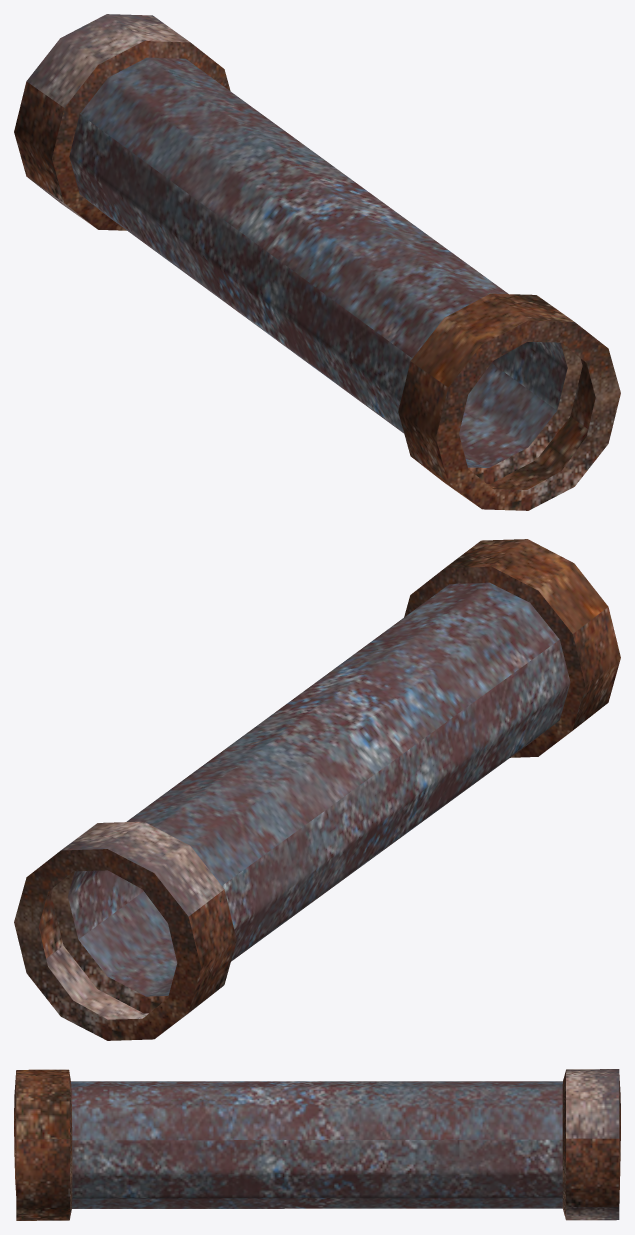
Rendered from TPE 2_FBX.fbx.
3 renders of one model, top to bottom at view 1: azimuth 30°, elevation 25°; view 2: azimuth 150°, elevation 25°; view 3: azimuth 270°, elevation 25°, orthographic. The views are drawn at different scales.
Parts seen in each view (by area): view 1: Tubería plataforma estática larga 2.001; view 2: Tubería plataforma estática larga 2.001; view 3: Tubería plataforma estática larga 2.001.
Part boxes in pixels (bbox=[...]): Tubería plataforma estática larga 2.001: bbox=[14, 14, 620, 510]; Tubería plataforma estática larga 2.001: bbox=[14, 539, 620, 1040]; Tubería plataforma estática larga 2.001: bbox=[14, 1069, 620, 1220].
Bounding box in the file's own units: 183 × 177 × 713.
